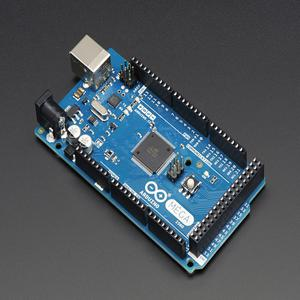duino: (39, 7, 266, 284)
